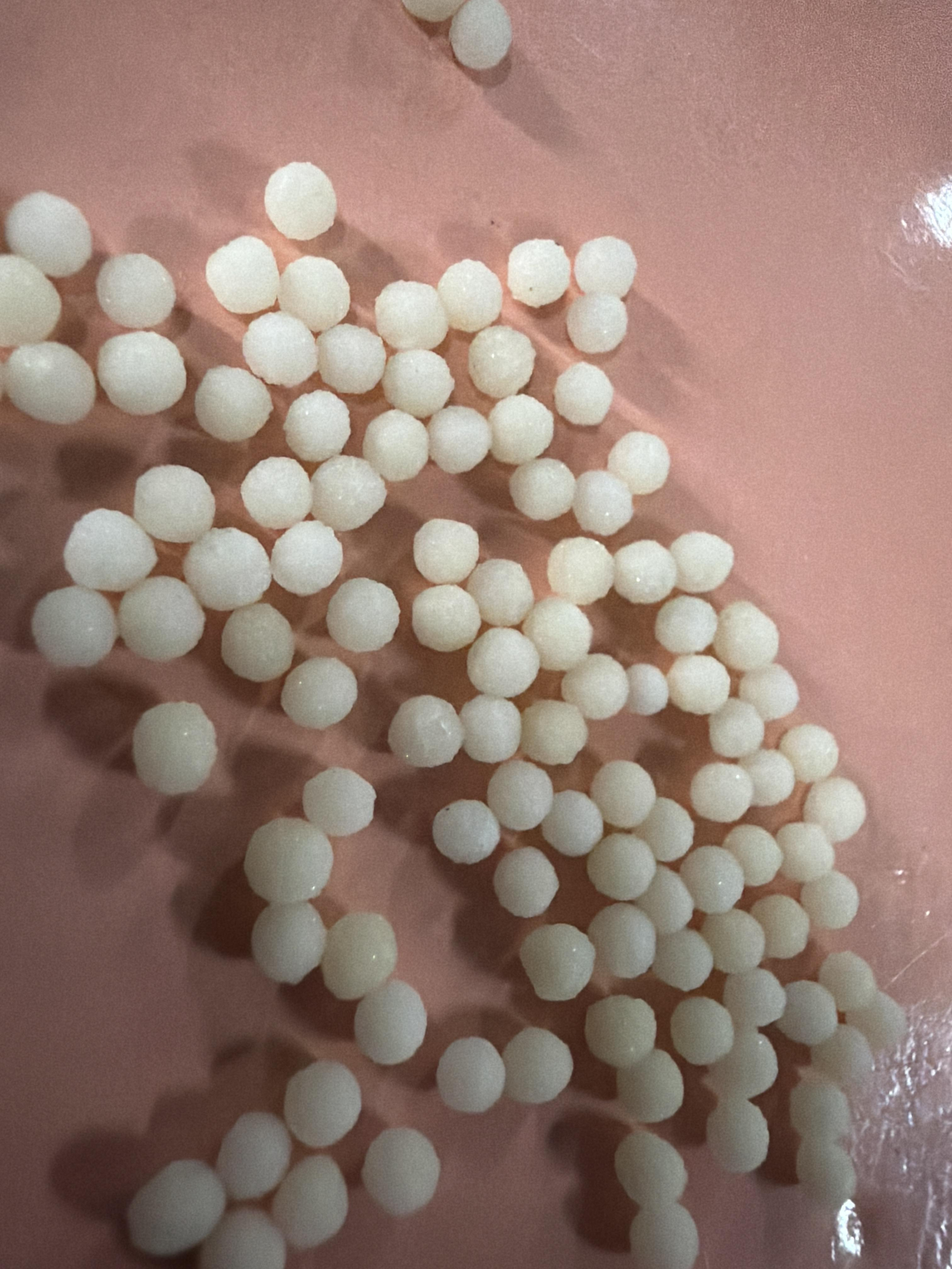pill: (127, 1159, 225, 1256), (133, 702, 217, 795), (244, 817, 333, 903), (96, 330, 186, 415), (3, 342, 95, 425), (4, 191, 91, 277), (117, 576, 205, 661), (183, 528, 271, 611), (271, 1154, 347, 1249), (31, 586, 118, 667), (361, 1128, 440, 1216), (215, 1111, 291, 1201), (320, 912, 397, 1000), (60, 514, 145, 590), (133, 464, 215, 542), (354, 978, 427, 1065), (252, 901, 326, 984), (95, 253, 175, 328), (519, 923, 595, 1001), (194, 366, 272, 442), (311, 454, 386, 531), (0, 255, 62, 347), (242, 311, 317, 387), (206, 236, 279, 314), (280, 657, 357, 730), (615, 1129, 687, 1207), (264, 162, 336, 240), (326, 577, 400, 652), (278, 256, 350, 333), (197, 1207, 286, 1269), (502, 1027, 573, 1104), (521, 596, 593, 671), (388, 695, 463, 767), (270, 520, 342, 595), (436, 1036, 505, 1114), (240, 456, 312, 529), (585, 994, 656, 1068), (586, 903, 656, 978), (381, 349, 454, 419), (375, 280, 448, 350), (467, 627, 539, 697), (706, 1094, 769, 1173), (303, 768, 376, 836), (617, 1048, 683, 1123), (468, 324, 534, 399), (707, 1029, 778, 1098), (317, 323, 386, 394), (486, 759, 554, 831), (362, 409, 428, 482), (437, 259, 502, 333), (488, 393, 554, 465), (284, 390, 350, 462), (547, 537, 615, 606), (586, 833, 656, 900), (466, 559, 534, 627), (560, 653, 629, 720), (713, 601, 779, 671), (411, 585, 481, 651), (493, 847, 558, 918), (590, 759, 656, 828), (427, 404, 491, 474), (796, 1138, 856, 1212), (630, 1204, 698, 1269), (432, 799, 500, 864), (413, 518, 479, 584), (679, 846, 744, 913), (520, 700, 587, 765), (670, 997, 734, 1065), (507, 239, 571, 307), (450, 0, 512, 70), (701, 908, 766, 974), (509, 457, 576, 521), (459, 695, 522, 763), (803, 776, 866, 843), (789, 1072, 851, 1140), (811, 1023, 873, 1091), (541, 789, 603, 857), (722, 966, 786, 1031), (613, 539, 676, 604), (607, 430, 670, 495), (572, 470, 633, 536), (637, 865, 693, 936), (748, 894, 810, 958), (666, 653, 730, 715), (670, 531, 734, 593), (652, 928, 713, 992), (573, 236, 636, 297), (846, 991, 908, 1052), (690, 763, 753, 823), (554, 362, 613, 426), (566, 293, 627, 354), (723, 824, 783, 886), (654, 595, 717, 654), (818, 950, 877, 1012), (638, 797, 694, 862), (776, 821, 835, 882), (779, 724, 839, 783), (738, 663, 798, 722), (800, 869, 858, 929), (709, 697, 764, 758), (739, 748, 795, 806), (626, 663, 669, 716), (403, 0, 462, 22), (0, 364, 5, 398)
